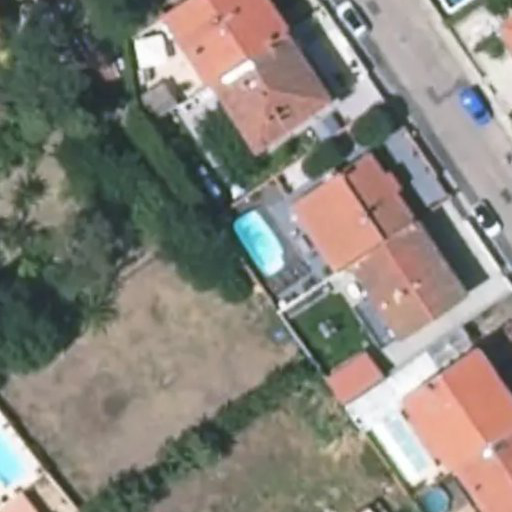pool: (230, 222, 286, 261)
